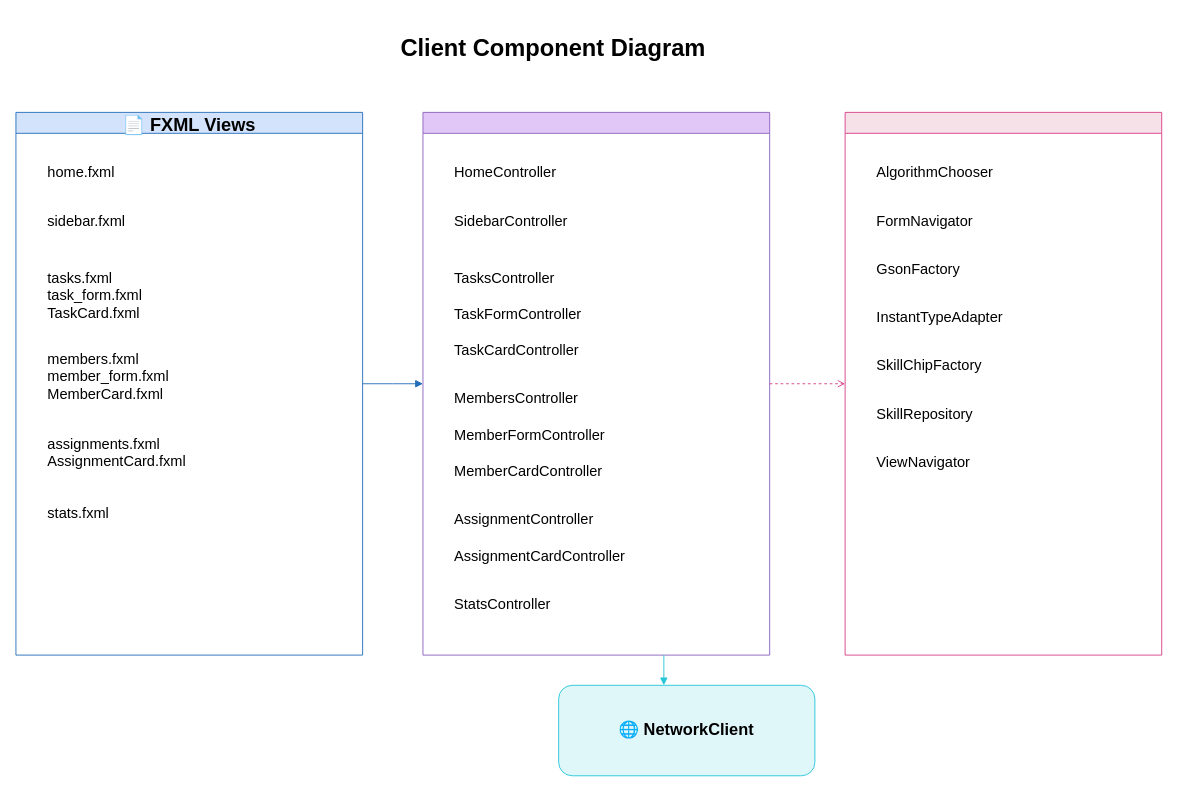
The diagram is 1178 pixels wide and 792 high, and some of its shapes have lost their labels. Here are the shapes that lost their labels. From the top down, the box of each, then its label:
(422, 111, 770, 655): 🧩 Controllers
(844, 111, 1162, 655): 🛠️ Utils
